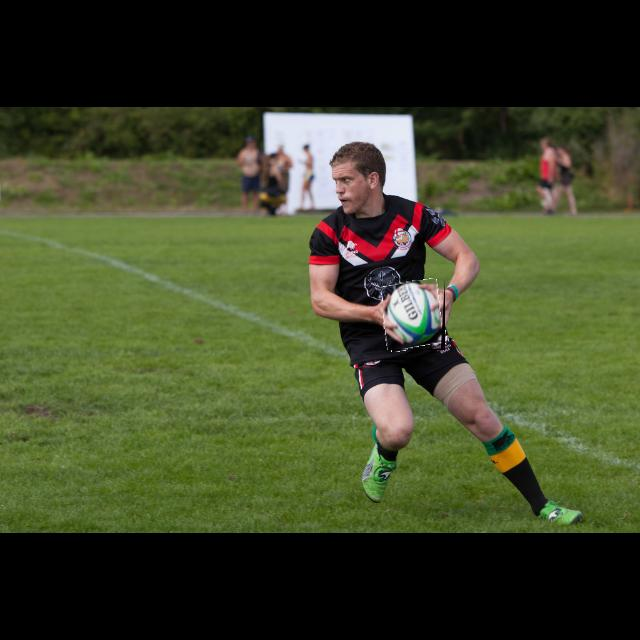Football: (383, 280, 445, 350)
